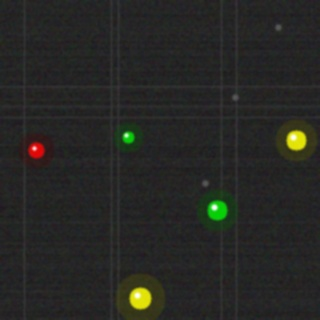green_normal: (205, 198, 229, 222), (120, 129, 136, 145)
red_fault: (26, 140, 46, 160)
yellow_warning: (127, 285, 153, 311), (284, 128, 308, 152)
